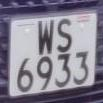3: (72, 48, 92, 89), (54, 52, 74, 92)
6: (14, 54, 36, 98)
9: (35, 55, 57, 94)
S: (55, 15, 74, 54)
W: (34, 17, 55, 57)
